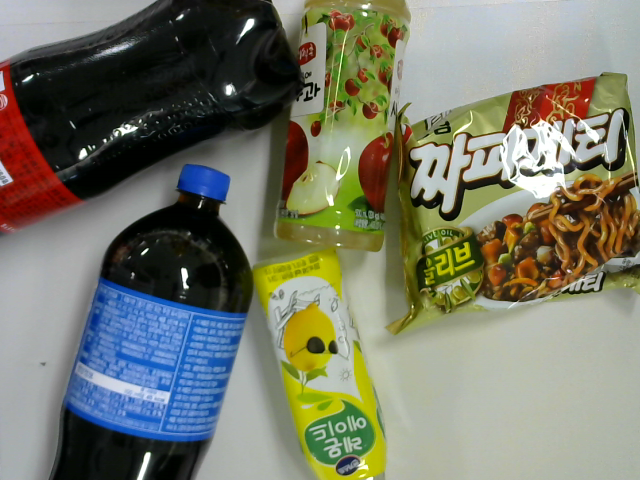Coca_Cola_1.5L: (1, 1, 306, 246)
Morning_Apple_500ml: (270, 1, 413, 255)
Olive_Chapaghetti: (387, 70, 640, 336)
Pepsi_Cola_1.5L: (49, 163, 256, 480)
Sunkist_Lemonaid_Pet: (251, 247, 391, 480)
